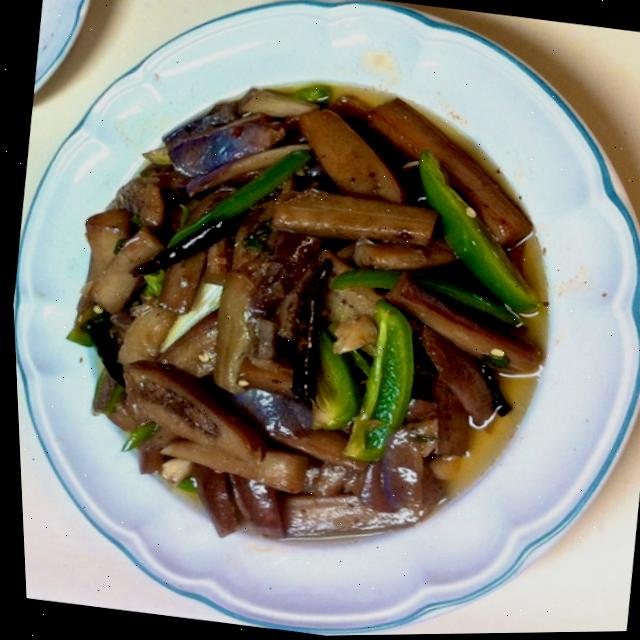鸡蛋料理: (15, 19, 624, 629)
